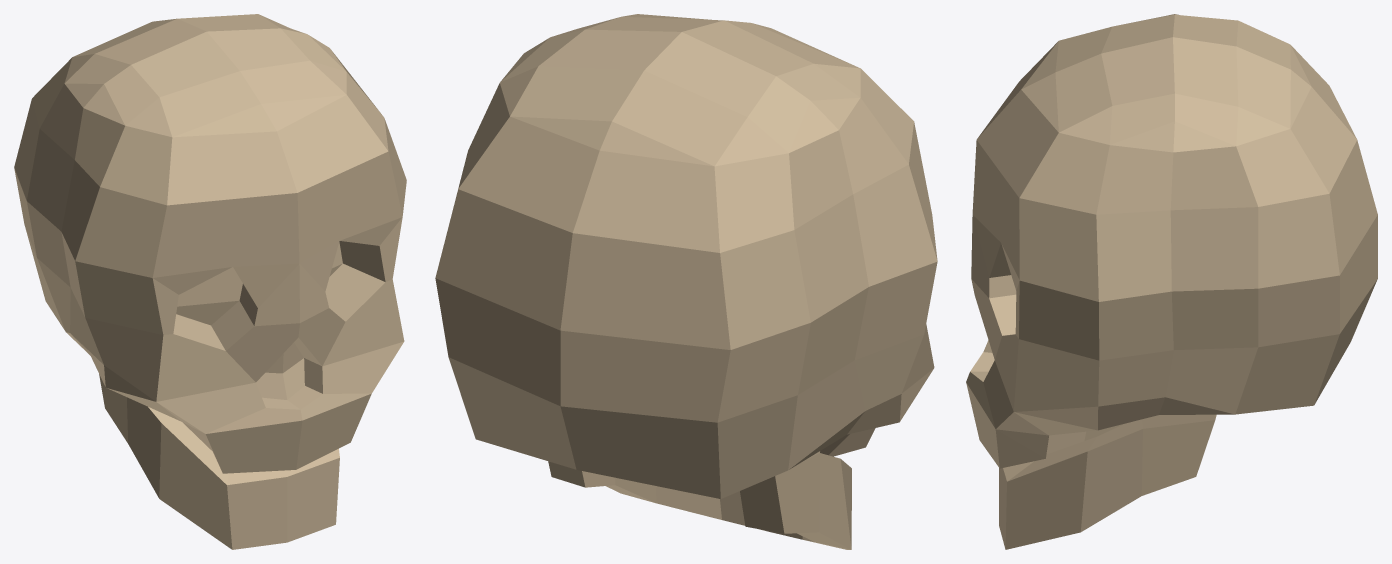
File: Skeleton_head.glb
3 renders of one model, left to right at view 1: azimuth 30°, elevation 25°; view 2: azimuth 150°, elevation 25°; view 3: azimuth 270°, elevation 25°, orthographic. The views are drawn at different scales.
Visible parts, largest first — view 1: Cylinder.002; view 2: Cylinder.002; view 3: Cylinder.002.
Boxes of the visible parts, left/top/right/bottom form: Cylinder.002: left=14, top=14, right=406, bottom=549; Cylinder.002: left=435, top=14, right=937, bottom=549; Cylinder.002: left=966, top=14, right=1377, bottom=549.
Size of the model in its own units: 0.5612 by 0.7311 by 0.5582.
